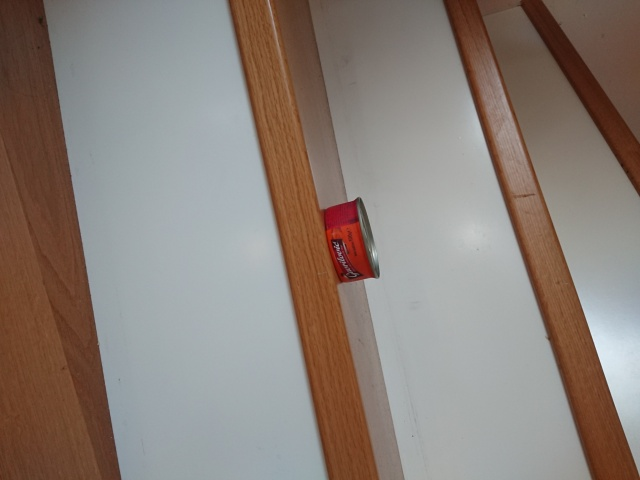Gavrilovic Pork Liver Pate 100g: (321, 194, 381, 283)
